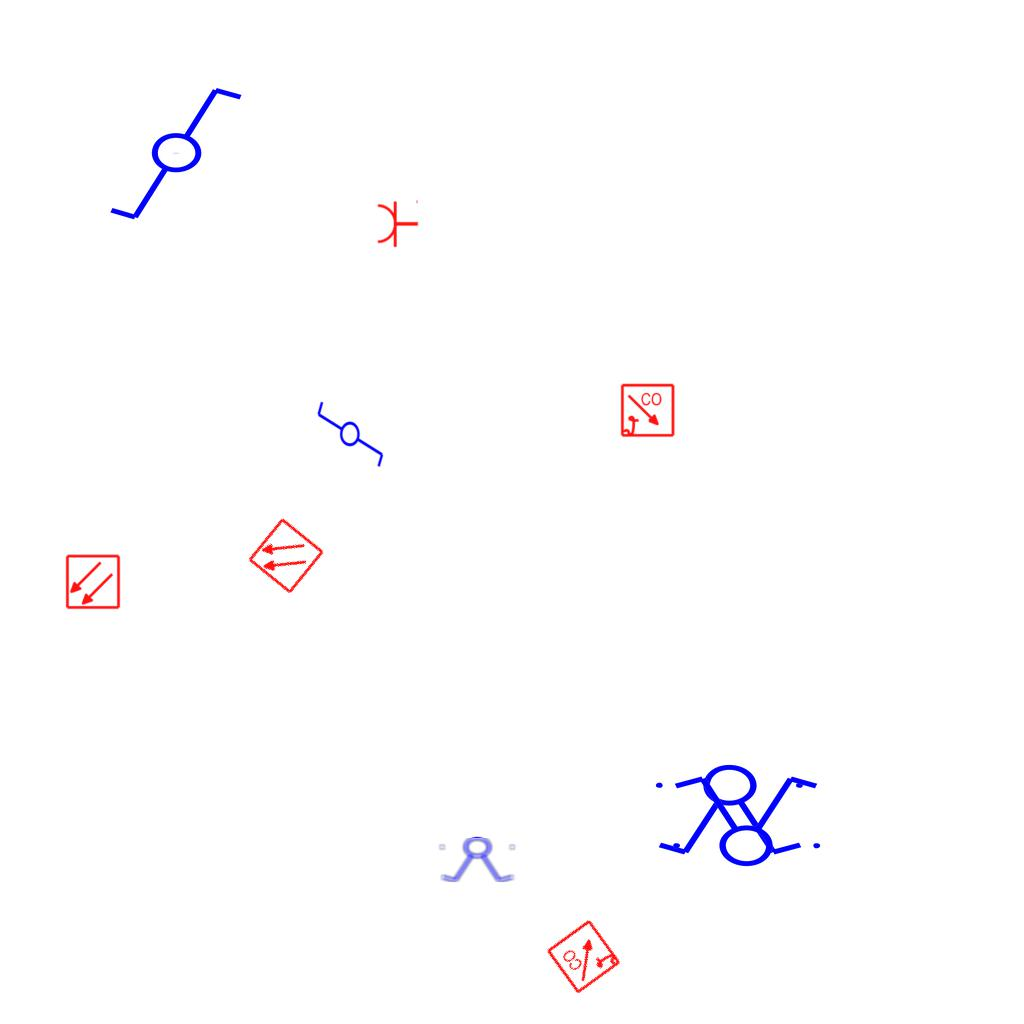RMO_Rauchmelder_optischer: (246, 516, 326, 596), (65, 554, 121, 610)
ROA_Rauchmelder_optisch_mit_Signalgeber_(Sockelsirene): (544, 916, 624, 996), (620, 383, 676, 439)
Schukosteckdose_einfach: (376, 198, 419, 248)
Serienschalter: (647, 763, 815, 859), (661, 772, 829, 868), (436, 836, 520, 884)
Wechselschalter: (106, 83, 263, 227), (315, 391, 387, 469)
